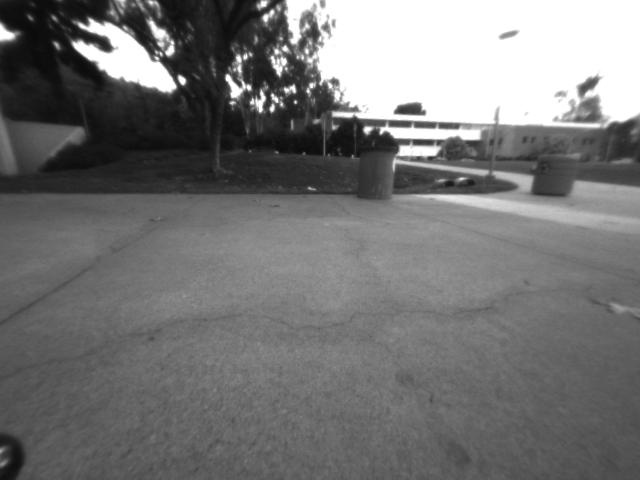trashcan: (356, 145, 399, 203), (531, 147, 574, 199)
